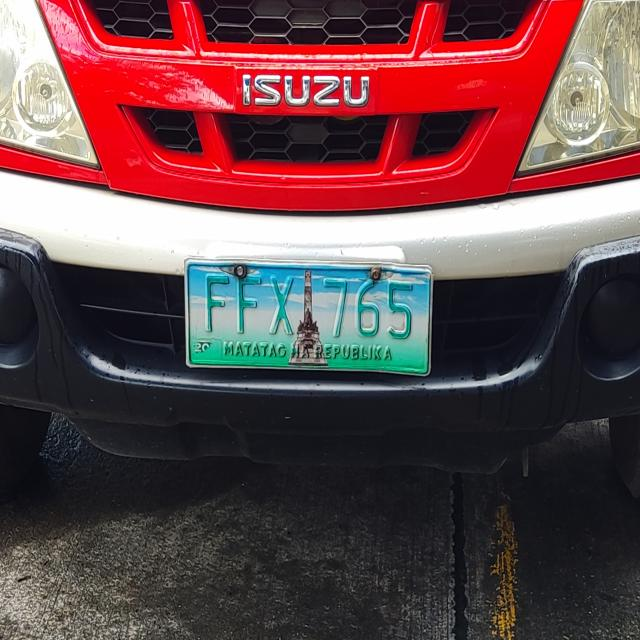plate: (180, 251, 436, 380)
